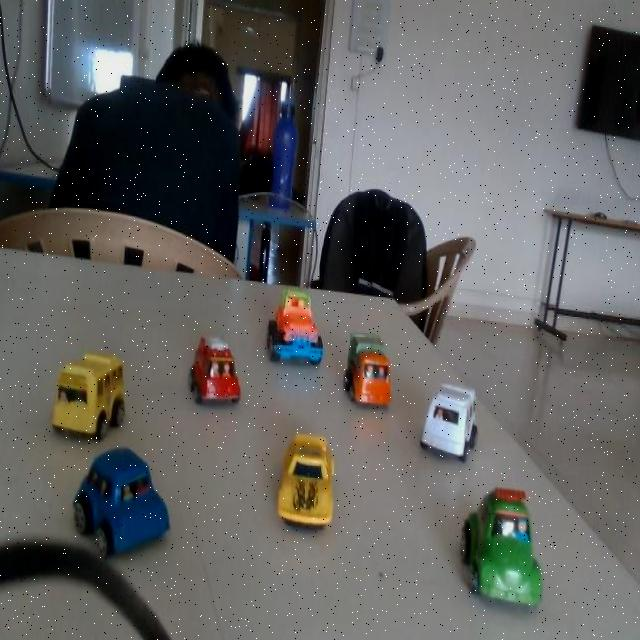car: (422, 451, 606, 640), (238, 422, 392, 562), (406, 360, 508, 488), (90, 448, 176, 561), (253, 275, 328, 371), (340, 314, 404, 425), (71, 360, 139, 438), (191, 333, 250, 417)
